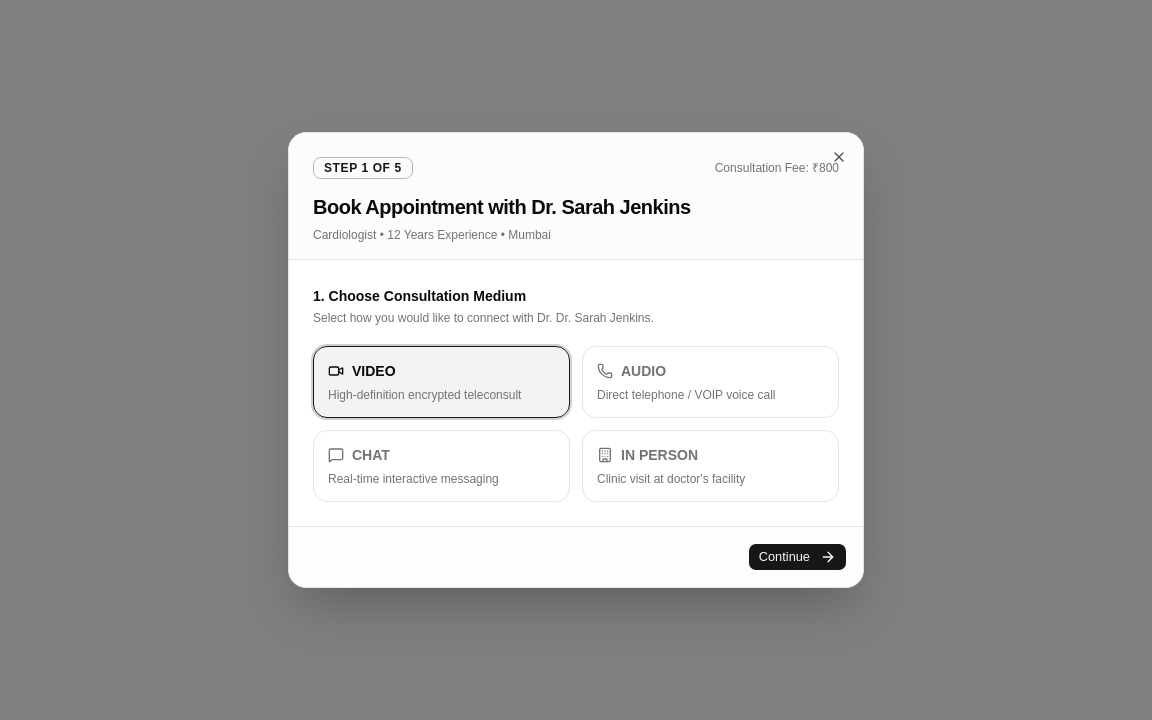
Milestone 13 — Task 13.3: Patient Portal Views › Booking Wizard (BookingModal) › 6. creates 15-minute slot reservation and opens payment step
This screenshot has width=1152, height=720.
Click the button "Continue" at (797,557), box [748, 543, 847, 571]
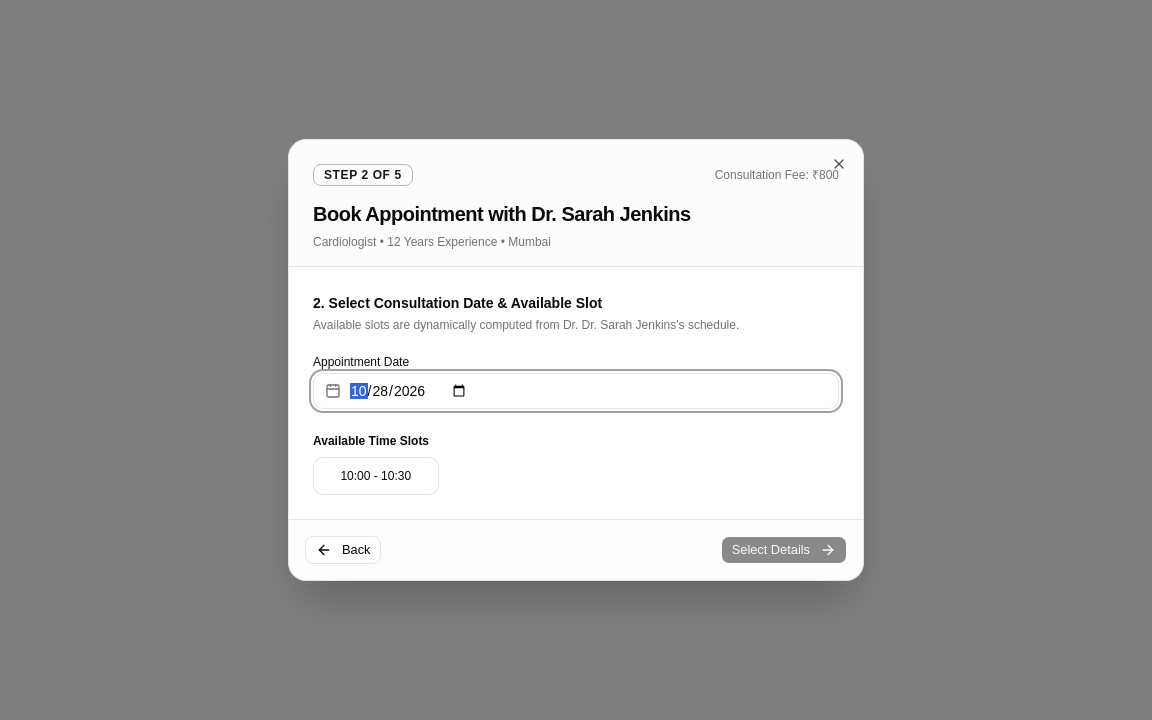
Check: the button "10:00 - 10:30" is shown
Click the button "10:00 - 10:30" at (376,476), box [313, 457, 438, 495]
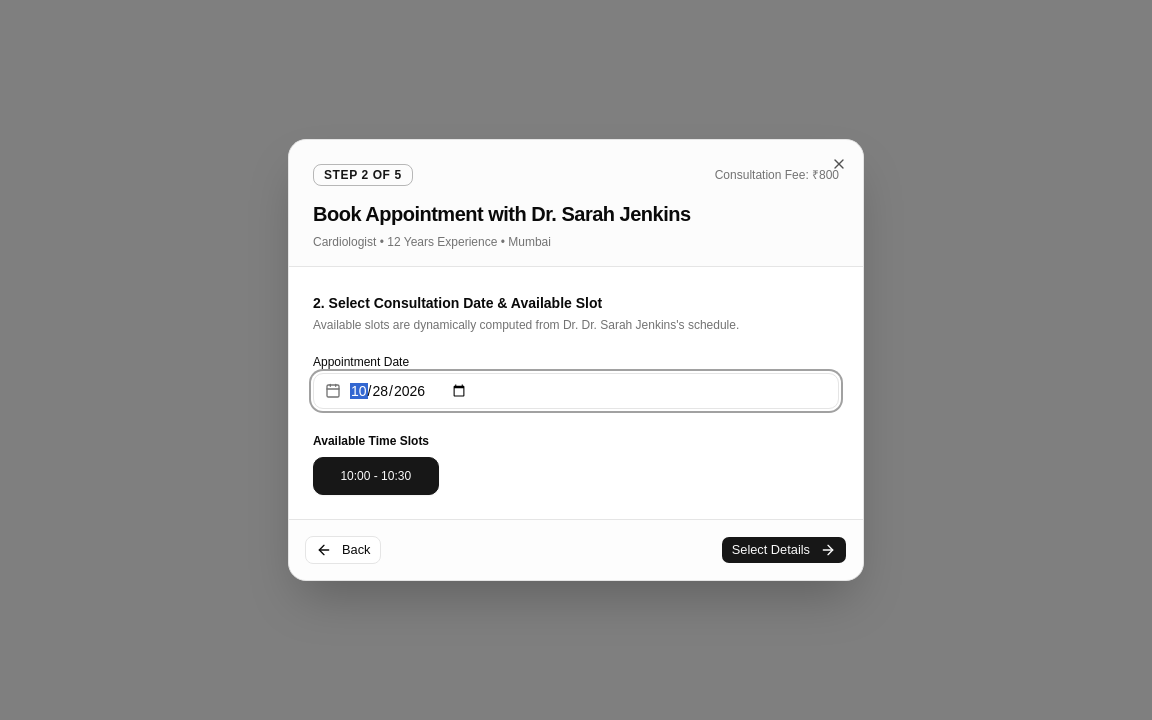
Click the button with test id "step2-continue-button" at (784,550), box [721, 536, 847, 564]
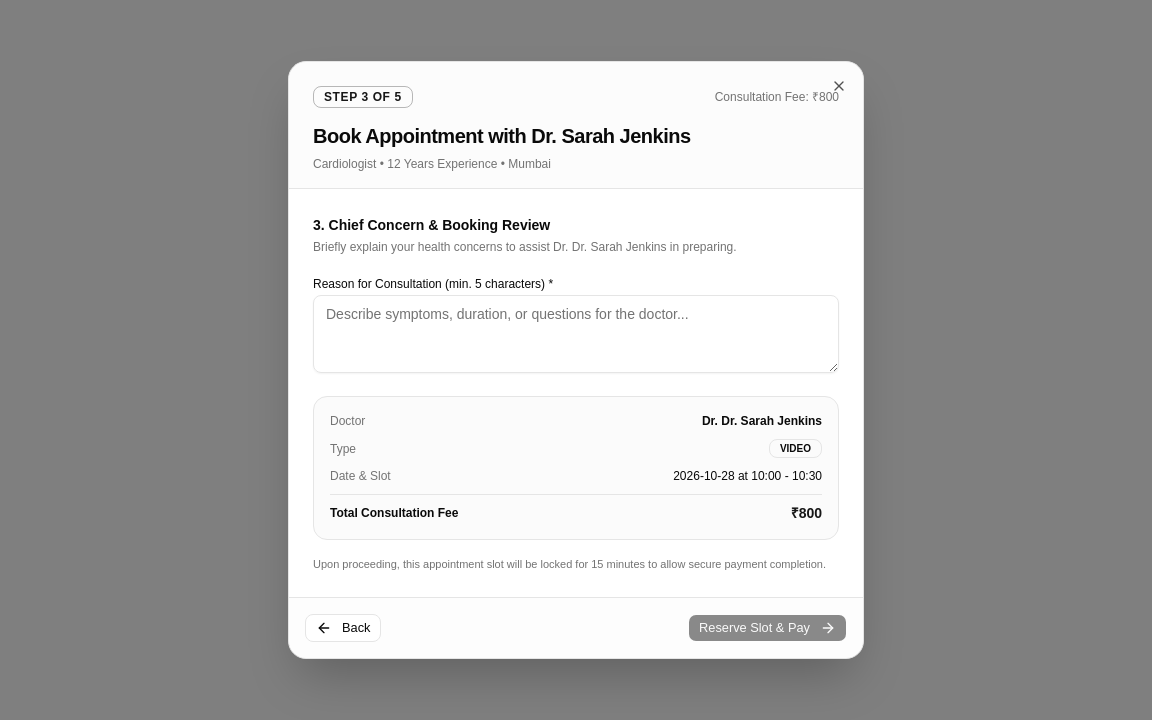
Check: the text box labelled "Reason for Consultation (min. 5 characters) *" is shown
Type "Follow-up ECG consultation" into the text box labelled "Reason for Consultation (min. 5 characters) *" at (576,334), box [313, 295, 839, 373]
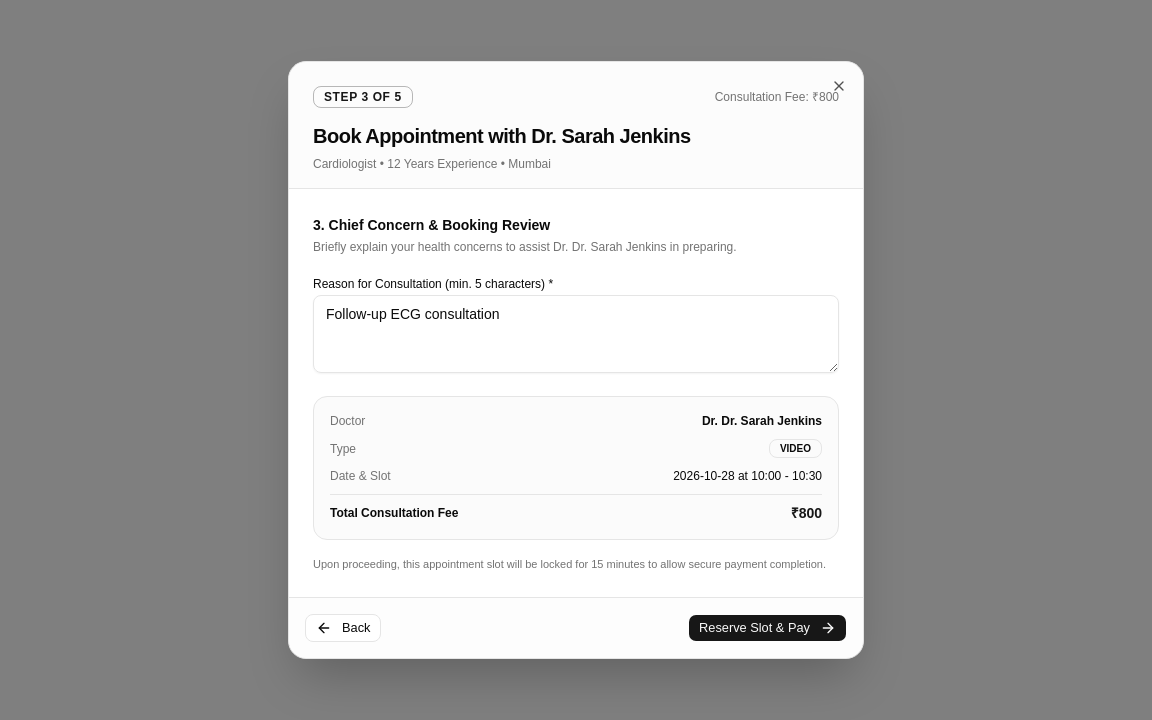
Click the button with test id "reserve-slot-button" at (768,628), box [688, 614, 847, 642]
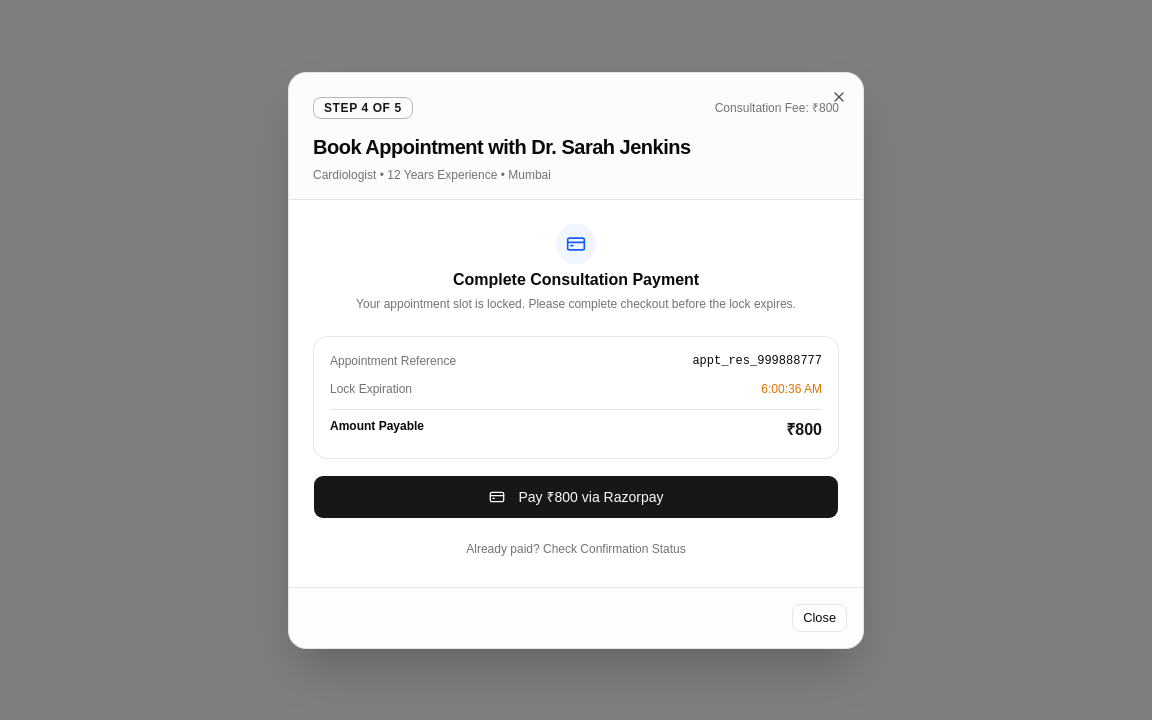
Check: the element with test id "booking-step-4" is shown, box [313, 224, 839, 562]
Check: the text "appt_res_999888777" is shown, box [692, 352, 822, 368]
Check: the button "Pay ₹800 via Razorpay" is shown, box [313, 474, 839, 518]
